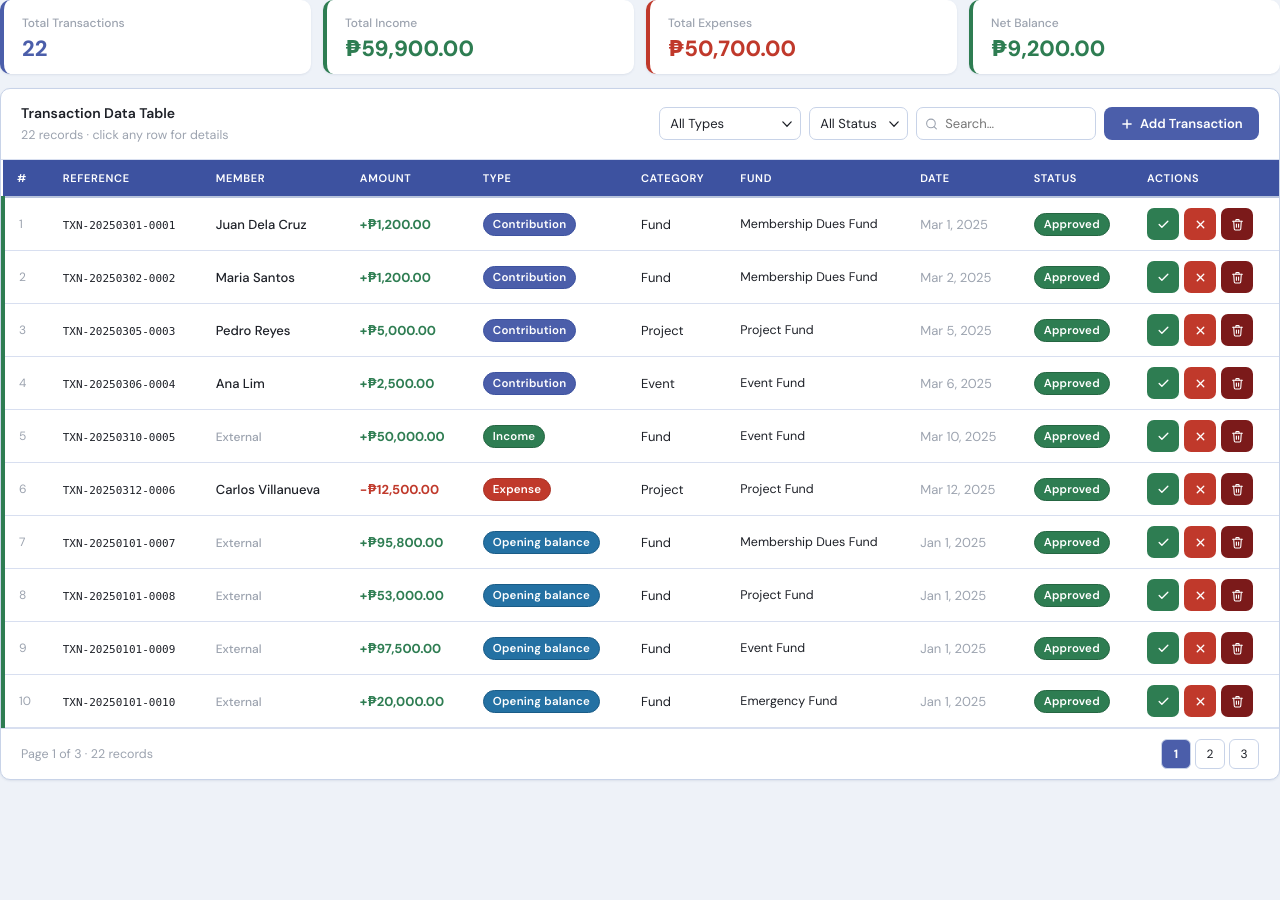
it: Transactions page › search by the member's NAME finds their rows (not their id)
Type "Juan Dela Cruz" into the field with placeholder "Search…". click: (1006, 124)
box: [916,107,1096,140]
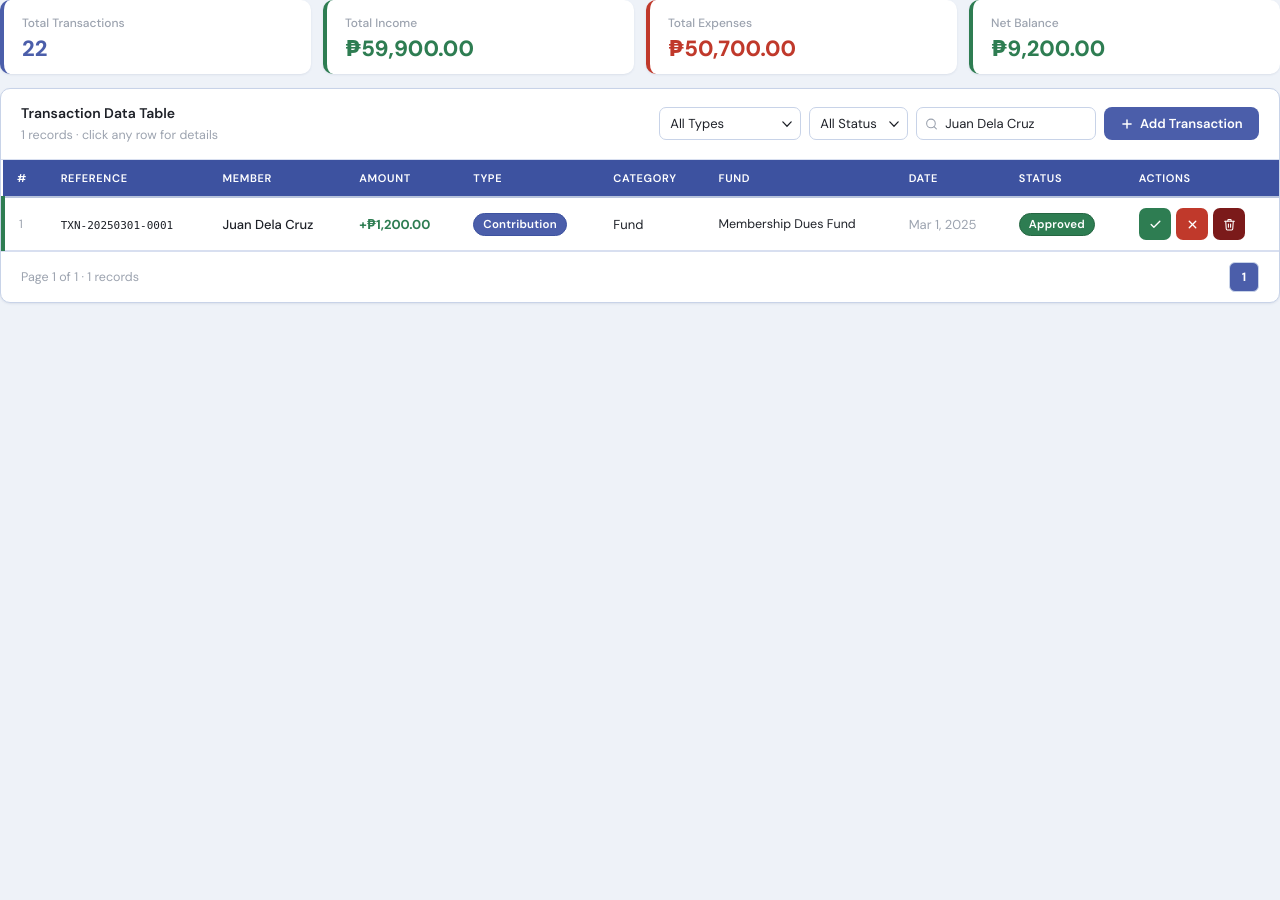
Result: the text "TXN-20250302-0002" is gone
Result: the text "TXN-20250305-0003" is gone
Result: the text "TXN-20250306-0004" is gone
